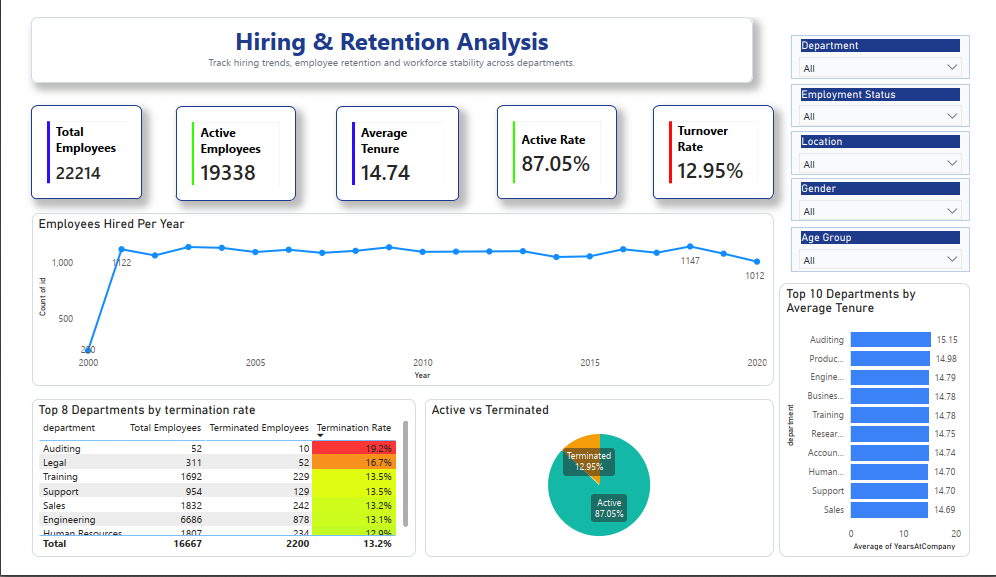

Layout of this report page (visuals, bound fields, positions):
{"tool":"powerbi","page":{"name":"Hiring and Retention","canvas":[1280,720],"ordinal":1},"visuals":[{"type":"lineChart","title":"Employees Hired Per Year","fields":{"Y":["CountNonNull(HR.id)"],"Category":["HR.HireDate.Variation.Date Hierarchy.Year"]},"box":[16.7,260.9,989.6,231.3],"z":0},{"type":"pieChart","title":"Active vs Terminated","fields":{"Y":["CountNonNull(HR.id)"],"Category":["HR.EmploymentStatus"]},"box":[541,508.9,465.2,210.8],"z":1000},{"type":"clusteredBarChart","title":"Top 10 Departments by Average Tenure","fields":{"Category":["HR.department"],"Y":["Avg(HR.YearsAtCompany)"]},"box":[1014.2,355.4,253.8,364.6],"z":2000},{"type":"tableEx","title":"Top 8 Departments by termination rate","fields":{"Values":["HR.department","HR.Total Employees","HR.Terminated Employees","HR.Termination Rate"]},"box":[16.7,508.9,512.8,210.8],"z":3000},{"type":"textbox","box":[16,0,962,88],"z":4000},{"type":"slicer","fields":{"Values":["HR.EmploymentStatus"]},"box":[1029.2,88.8,238.8,57.7],"z":5000},{"type":"slicer","fields":{"Values":["HR.gender"]},"box":[1029.2,214.6,238.8,57.7],"z":6000},{"type":"slicer","fields":{"Values":["HR.location_state"]},"box":[1029.2,152.3,238.8,57.7],"z":7000},{"type":"slicer","fields":{"Values":["HR.AgeGroup"]},"box":[1029.2,280.4,238.8,60],"z":8000},{"type":"slicer","fields":{"Values":["HR.department"]},"box":[1029.2,24.2,238.8,57.7],"z":9000},{"type":"cardVisual","title":"Total Employees","fields":{"Data":["HR.Total Employees"]},"box":[16.2,117.7,147.7,125.8],"z":10000},{"type":"cardVisual","title":"Total Employees","fields":{"Data":["HR.Average Tenure"]},"box":[423.5,118.8,163.8,125.8],"z":11000},{"type":"cardVisual","title":"Total Employees","fields":{"Data":["HR.Turnover Rate"]},"box":[844.6,117.7,161.5,125.8],"z":12000},{"type":"cardVisual","title":"Total Employees","fields":{"Data":["HR.Active Rate"]},"box":[636.9,117.7,160.4,125.8],"z":13000},{"type":"cardVisual","title":"Total Employees","fields":{"Data":["HR.Active Employees"]},"box":[208.8,118.8,160.4,125.8],"z":14000}]}

Visuals, with their boxes in screenshot pixels (x1, y1, x2, y2), scaled from the page's 1280x720 canvas onto the 996x577 screenshot:
"Employees Hired Per Year" lineChart: rect(13, 209, 783, 394)
"Active vs Terminated" pieChart: rect(421, 408, 783, 576)
"Top 10 Departments by Average Tenure" clusteredBarChart: rect(789, 285, 987, 576)
"Top 8 Departments by termination rate" tableEx: rect(13, 408, 412, 576)
textbox: rect(12, 0, 761, 71)
slicer - HR.EmploymentStatus: rect(801, 71, 987, 117)
slicer - HR.gender: rect(801, 172, 987, 218)
slicer - HR.location_state: rect(801, 122, 987, 168)
slicer - HR.AgeGroup: rect(801, 225, 987, 273)
slicer - HR.department: rect(801, 19, 987, 66)
"Total Employees" cardVisual: rect(13, 94, 128, 195)
"Total Employees" cardVisual: rect(330, 95, 457, 196)
"Total Employees" cardVisual: rect(657, 94, 783, 195)
"Total Employees" cardVisual: rect(496, 94, 620, 195)
"Total Employees" cardVisual: rect(162, 95, 287, 196)
